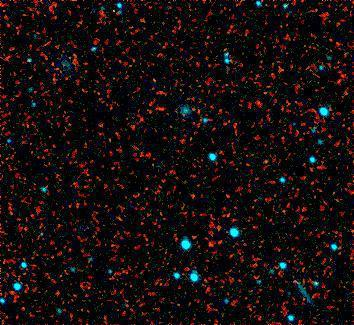star: (250, 145, 280, 175)
